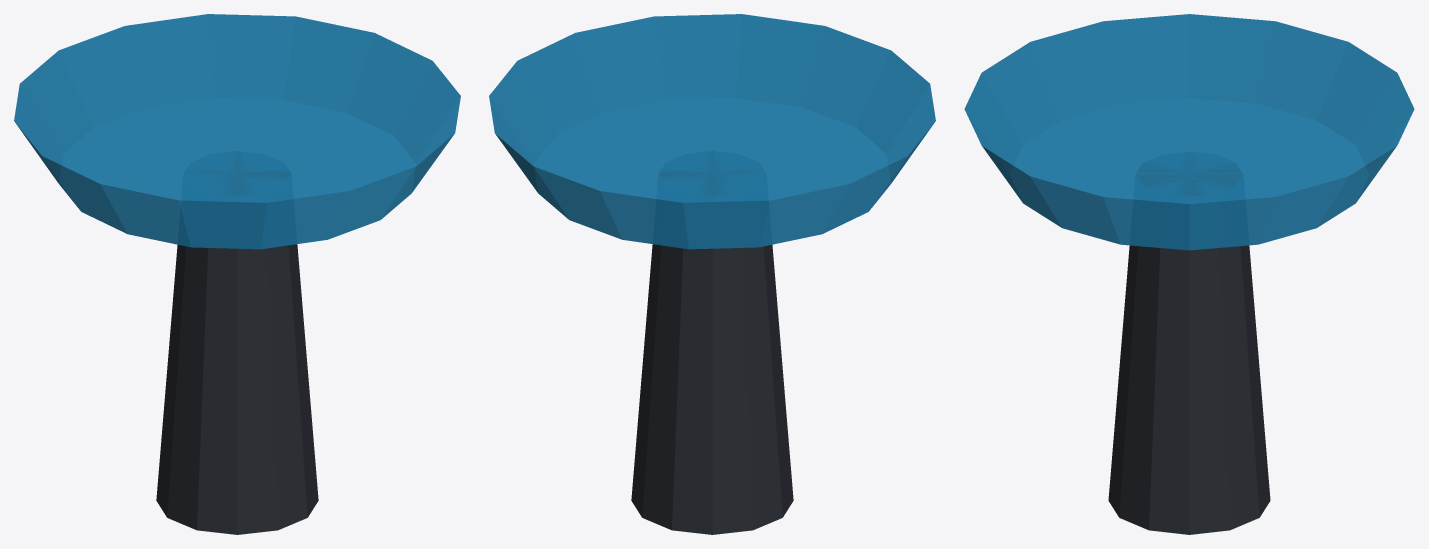
File: observation_deck.obj
3 renders of one model, left to right at view 1: azimuth 30°, elevation 25°; view 2: azimuth 150°, elevation 25°; view 3: azimuth 270°, elevation 25°, orthographic.
Parts seen in each view (by area): view 1: ObservationDeck; view 2: ObservationDeck; view 3: ObservationDeck.
Part boxes in pixels (box(x1,y1,x2,y2)): ObservationDeck: box(14, 14, 460, 534); ObservationDeck: box(489, 14, 935, 534); ObservationDeck: box(964, 14, 1414, 534).
Size of the model in its own units: 5 by 4.8 by 5.
